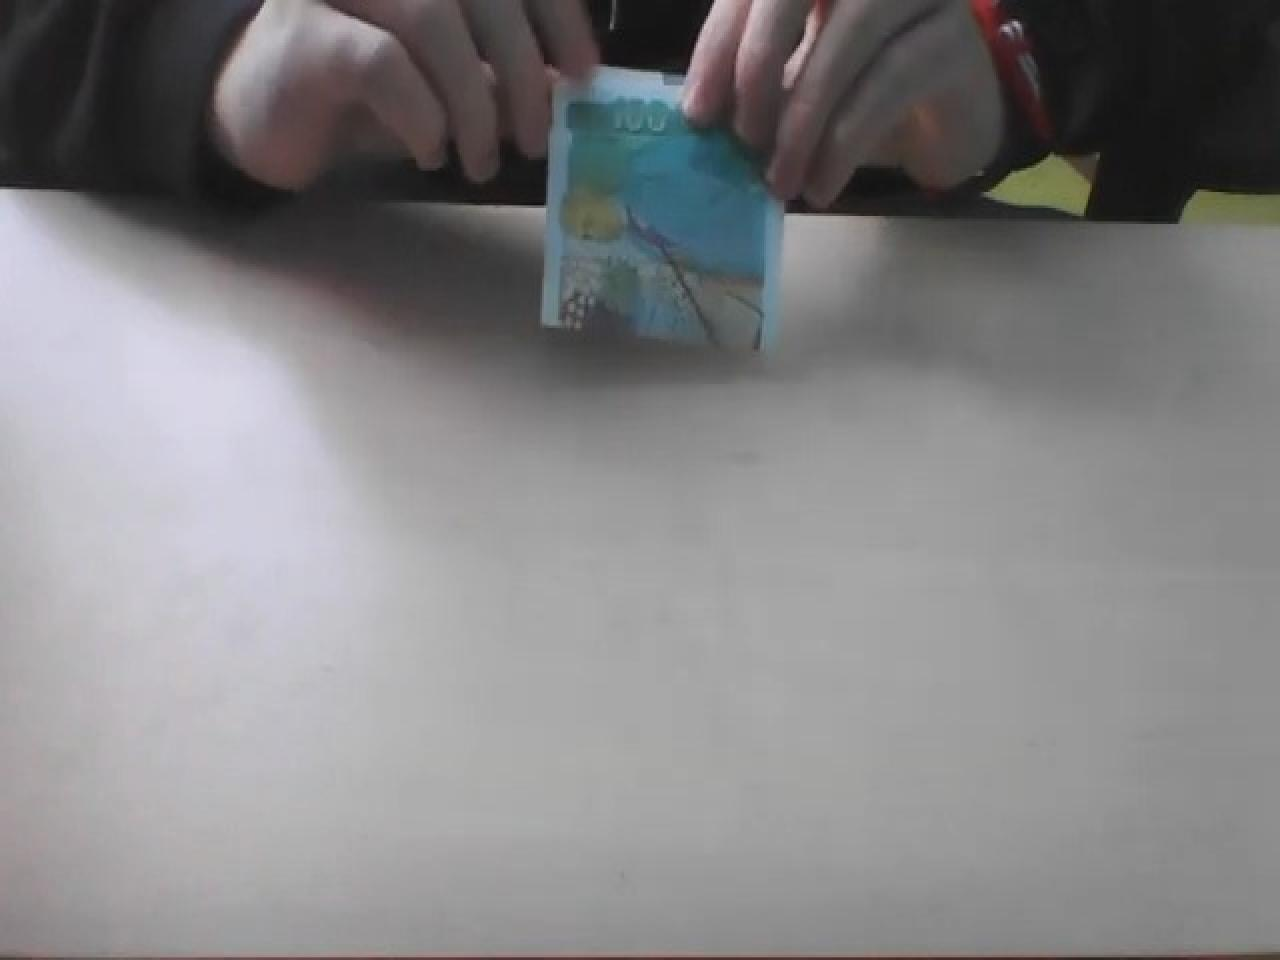100leva: (540, 70, 784, 357)
